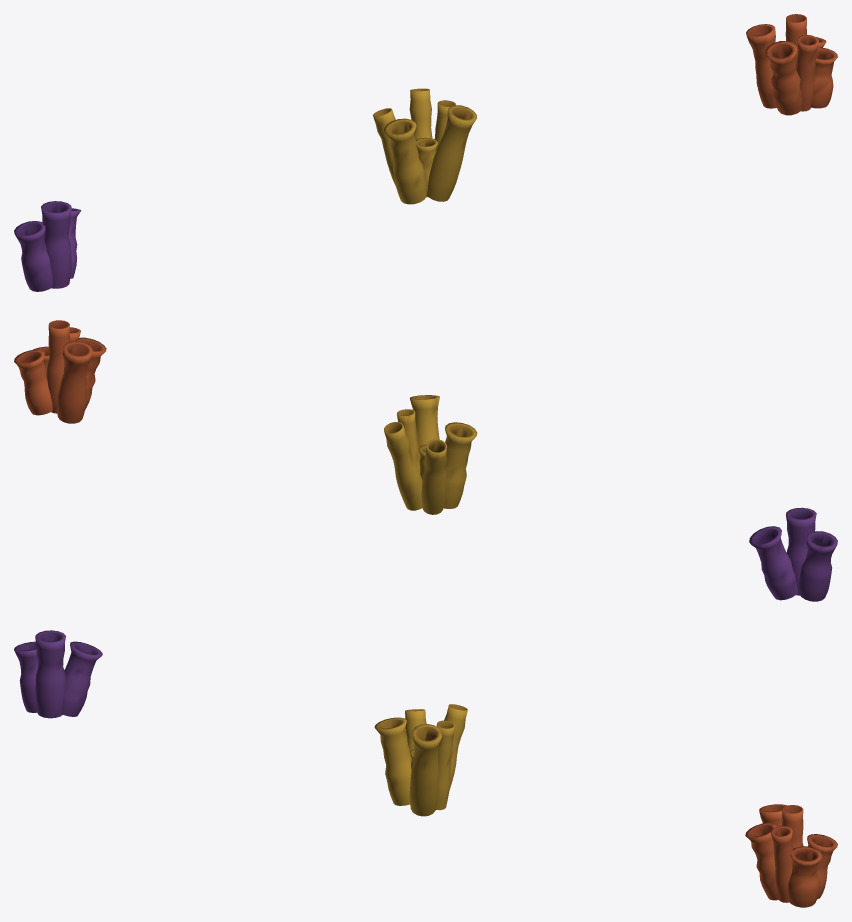
The picture shows the model from 3 angles, top to bottom: view 1: azimuth 30°, elevation 25°; view 2: azimuth 150°, elevation 25°; view 3: azimuth 330°, elevation 25°; orthographic projection.
Visible parts, largest first — view 1: tube-sponge-1, tube-sponge-2, tube-sponge-0; view 2: tube-sponge-1, tube-sponge-2, tube-sponge-0; view 3: tube-sponge-1, tube-sponge-2, tube-sponge-0.
Part boxes in pixels (x1,y1,x2,y2): tube-sponge-1: [373, 88, 476, 204]; tube-sponge-2: [746, 14, 837, 115]; tube-sponge-0: [14, 201, 81, 291]; tube-sponge-1: [384, 395, 477, 514]; tube-sponge-2: [14, 320, 106, 423]; tube-sponge-0: [749, 507, 837, 601]; tube-sponge-1: [374, 704, 467, 816]; tube-sponge-2: [745, 804, 837, 907]; tube-sponge-0: [14, 630, 102, 718].
Size of the model in its own units: 1.32 by 0.1448 by 0.1382.
